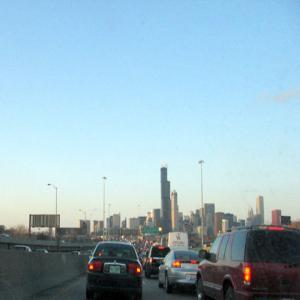Vehicle-registration-plate: (110, 266, 122, 275)
